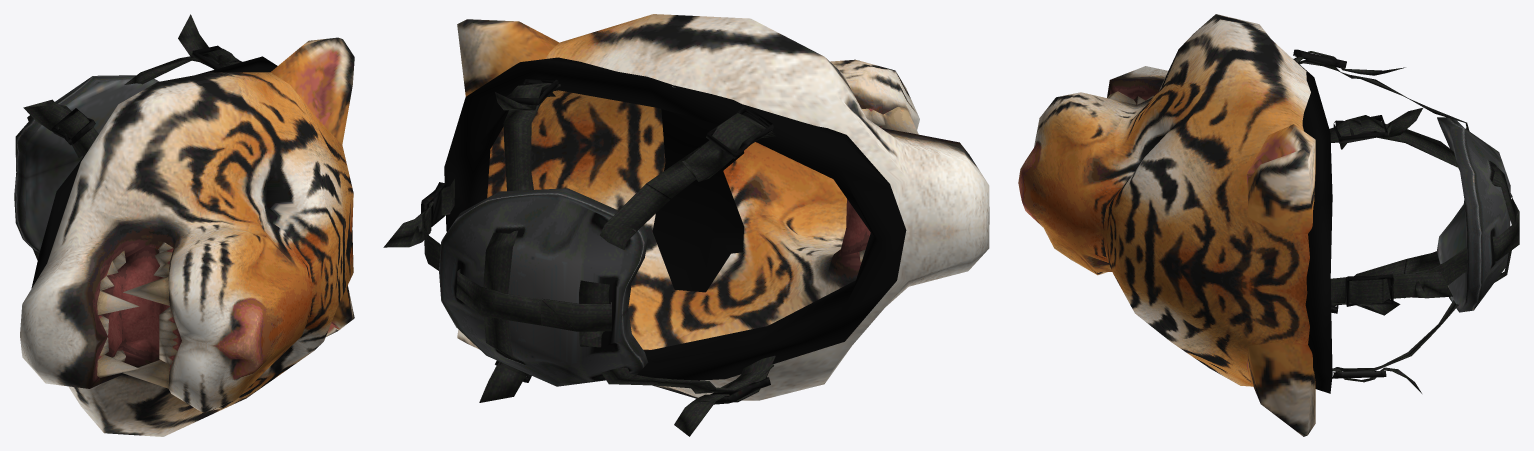
Rendered from F_TigerMask.fbx.
3 renders of one model, left to right at view 1: azimuth 30°, elevation 25°; view 2: azimuth 150°, elevation 25°; view 3: azimuth 270°, elevation 25°, orthographic. The views are drawn at different scales.
Visible parts, largest first — view 1: TigerMask.001; view 2: TigerMask.001; view 3: TigerMask.001.
Boxes of the visible parts, x1=… form: TigerMask.001: x1=14, y1=14, x2=354, y2=436; TigerMask.001: x1=383, y1=14, x2=989, y2=436; TigerMask.001: x1=1018, y1=14, x2=1519, y2=436.
Size of the model in its own units: 0.1812 by 0.1463 by 0.1992.
